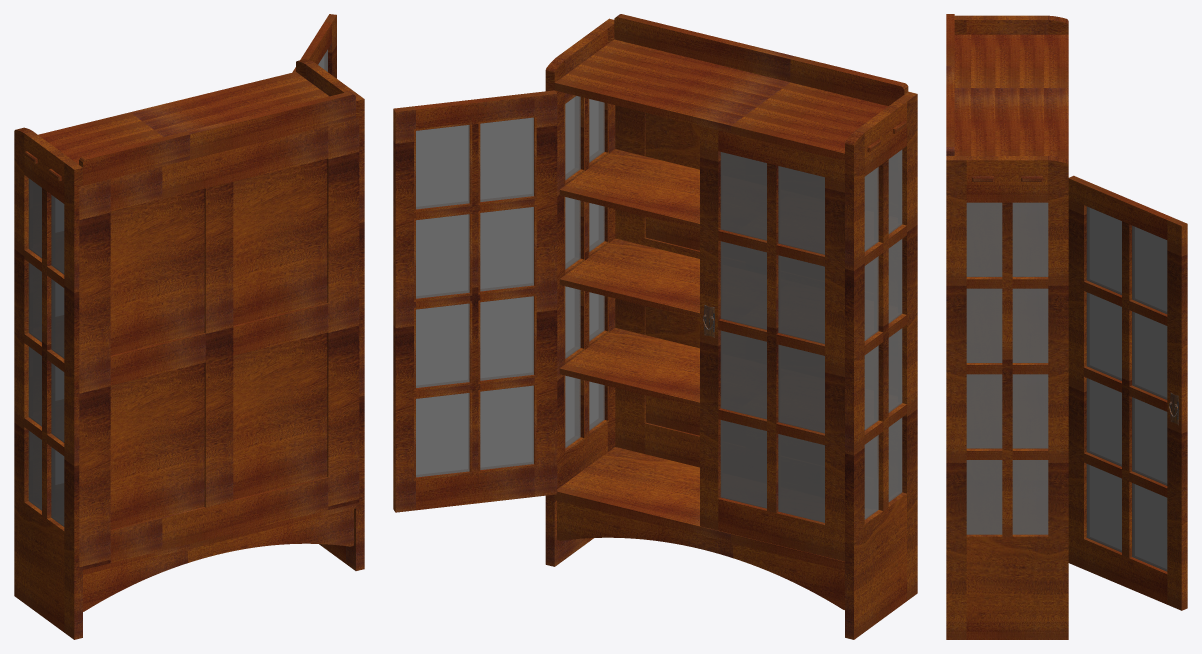
3 views of the same model, side by side, from view 1: azimuth 30°, elevation 25°; view 2: azimuth 150°, elevation 25°; view 3: azimuth 270°, elevation 25° (orthographic). The views are drawn at different scales.
Parts seen in each view (by area): view 1: mesh247_mesh247-geometry, mesh253_mesh253-geometry, mesh257_mesh257-geometry, mesh251_mesh251-geometry, mesh255_mesh255-geometry, mesh249_mesh249-geometry, mesh243_mesh243-geometry, mesh3_mesh3-geometry, mesh239_mesh239-geometry, mesh237_mesh237-geometry, mesh235_mesh235-geometry, mesh37_mesh37-geometry (+22 smaller); view 2: mesh37_mesh37-geometry, mesh229_mesh229-geometry, mesh273_mesh273-geometry, mesh271_mesh271-geometry, mesh394_mesh394-geometry, mesh235_mesh235-geometry, mesh392_mesh392-geometry, mesh3_mesh3-geometry, mesh263_mesh263-geometry, mesh259_mesh259-geometry, mesh261_mesh261-geometry, mesh231_mesh231-geometry (+52 smaller); view 3: mesh110_mesh110-geometry, mesh144_mesh144-geometry, mesh116_mesh116-geometry, mesh271_mesh271-geometry, mesh273_mesh273-geometry, mesh112_mesh112-geometry, mesh118_mesh118-geometry, mesh279_mesh279-geometry, mesh217_mesh217-geometry, mesh223_mesh223-geometry, mesh227_mesh227-geometry, mesh215_mesh215-geometry (+34 smaller).
Boxes of the visible parts, bbox=[...] form: mesh247_mesh247-geometry: bbox=[233, 159, 327, 325]; mesh253_mesh253-geometry: bbox=[233, 333, 327, 499]; mesh257_mesh257-geometry: bbox=[110, 188, 204, 355]; mesh251_mesh251-geometry: bbox=[110, 363, 204, 529]; mesh255_mesh255-geometry: bbox=[327, 118, 359, 509]; mesh249_mesh249-geometry: bbox=[79, 179, 110, 570]; mesh243_mesh243-geometry: bbox=[204, 182, 233, 507]; mesh3_mesh3-geometry: bbox=[64, 160, 82, 639]; mesh239_mesh239-geometry: bbox=[110, 477, 328, 562]; mesh237_mesh237-geometry: bbox=[110, 126, 328, 211]; mesh235_mesh235-geometry: bbox=[79, 91, 355, 181]; mesh37_mesh37-geometry: bbox=[14, 127, 32, 602]; mesh37_mesh37-geometry: bbox=[845, 130, 864, 639]; mesh229_mesh229-geometry: bbox=[554, 447, 844, 570]; mesh273_mesh273-geometry: bbox=[533, 90, 557, 496]; mesh271_mesh271-geometry: bbox=[393, 106, 415, 512]; mesh394_mesh394-geometry: bbox=[825, 156, 844, 561]; mesh235_mesh235-geometry: bbox=[614, 14, 908, 106]; mesh392_mesh392-geometry: bbox=[700, 126, 720, 530]; mesh3_mesh3-geometry: bbox=[898, 91, 917, 600]; mesh263_mesh263-geometry: bbox=[559, 149, 699, 229]; mesh259_mesh259-geometry: bbox=[559, 327, 699, 408]; mesh261_mesh261-geometry: bbox=[559, 238, 699, 318]; mesh231_mesh231-geometry: bbox=[557, 501, 844, 609]; mesh110_mesh110-geometry: bbox=[946, 156, 966, 639]; mesh144_mesh144-geometry: bbox=[1048, 156, 1068, 639]; mesh116_mesh116-geometry: bbox=[966, 534, 1048, 639]; mesh271_mesh271-geometry: bbox=[1167, 217, 1187, 610]; mesh273_mesh273-geometry: bbox=[1068, 175, 1089, 569]; mesh112_mesh112-geometry: bbox=[966, 156, 1048, 202]; mesh118_mesh118-geometry: bbox=[1002, 202, 1012, 536]; mesh279_mesh279-geometry: bbox=[1122, 221, 1131, 557]; mesh217_mesh217-geometry: bbox=[971, 34, 995, 181]; mesh223_mesh223-geometry: bbox=[1019, 34, 1043, 181]; mesh227_mesh227-geometry: bbox=[1044, 34, 1068, 160]; mesh215_mesh215-geometry: bbox=[995, 34, 1019, 155].
Bounding box in the file's own units: 0.6059 × 0.7259 × 0.3256.
